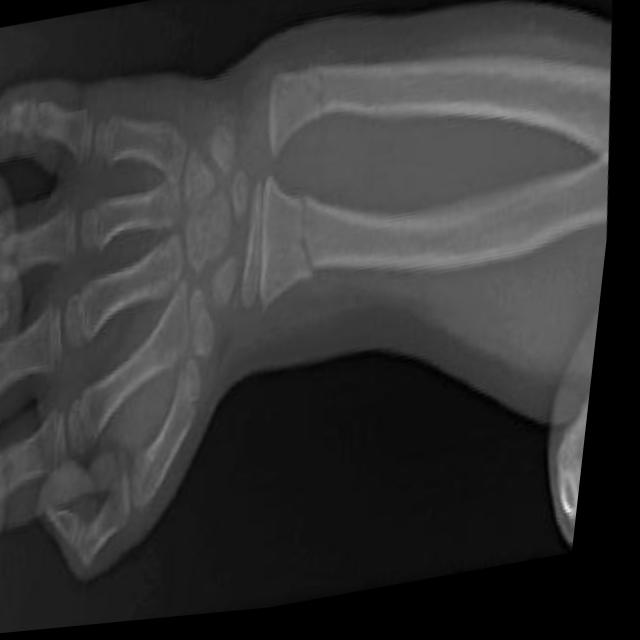fracture: (275, 166, 345, 319), (300, 63, 341, 127)
